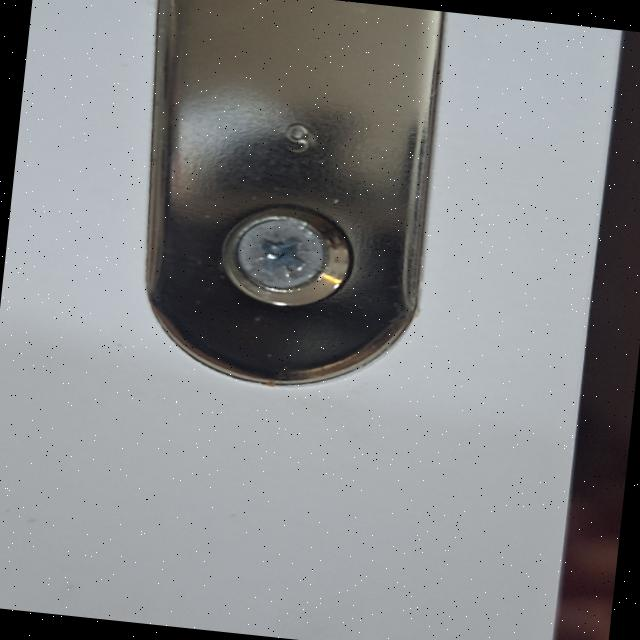Pozidriv: (211, 198, 351, 312)
